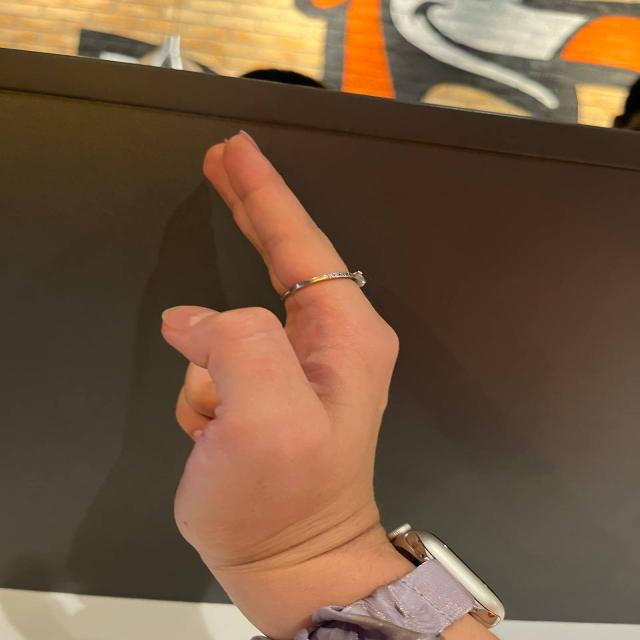d: (151, 100, 385, 537)
